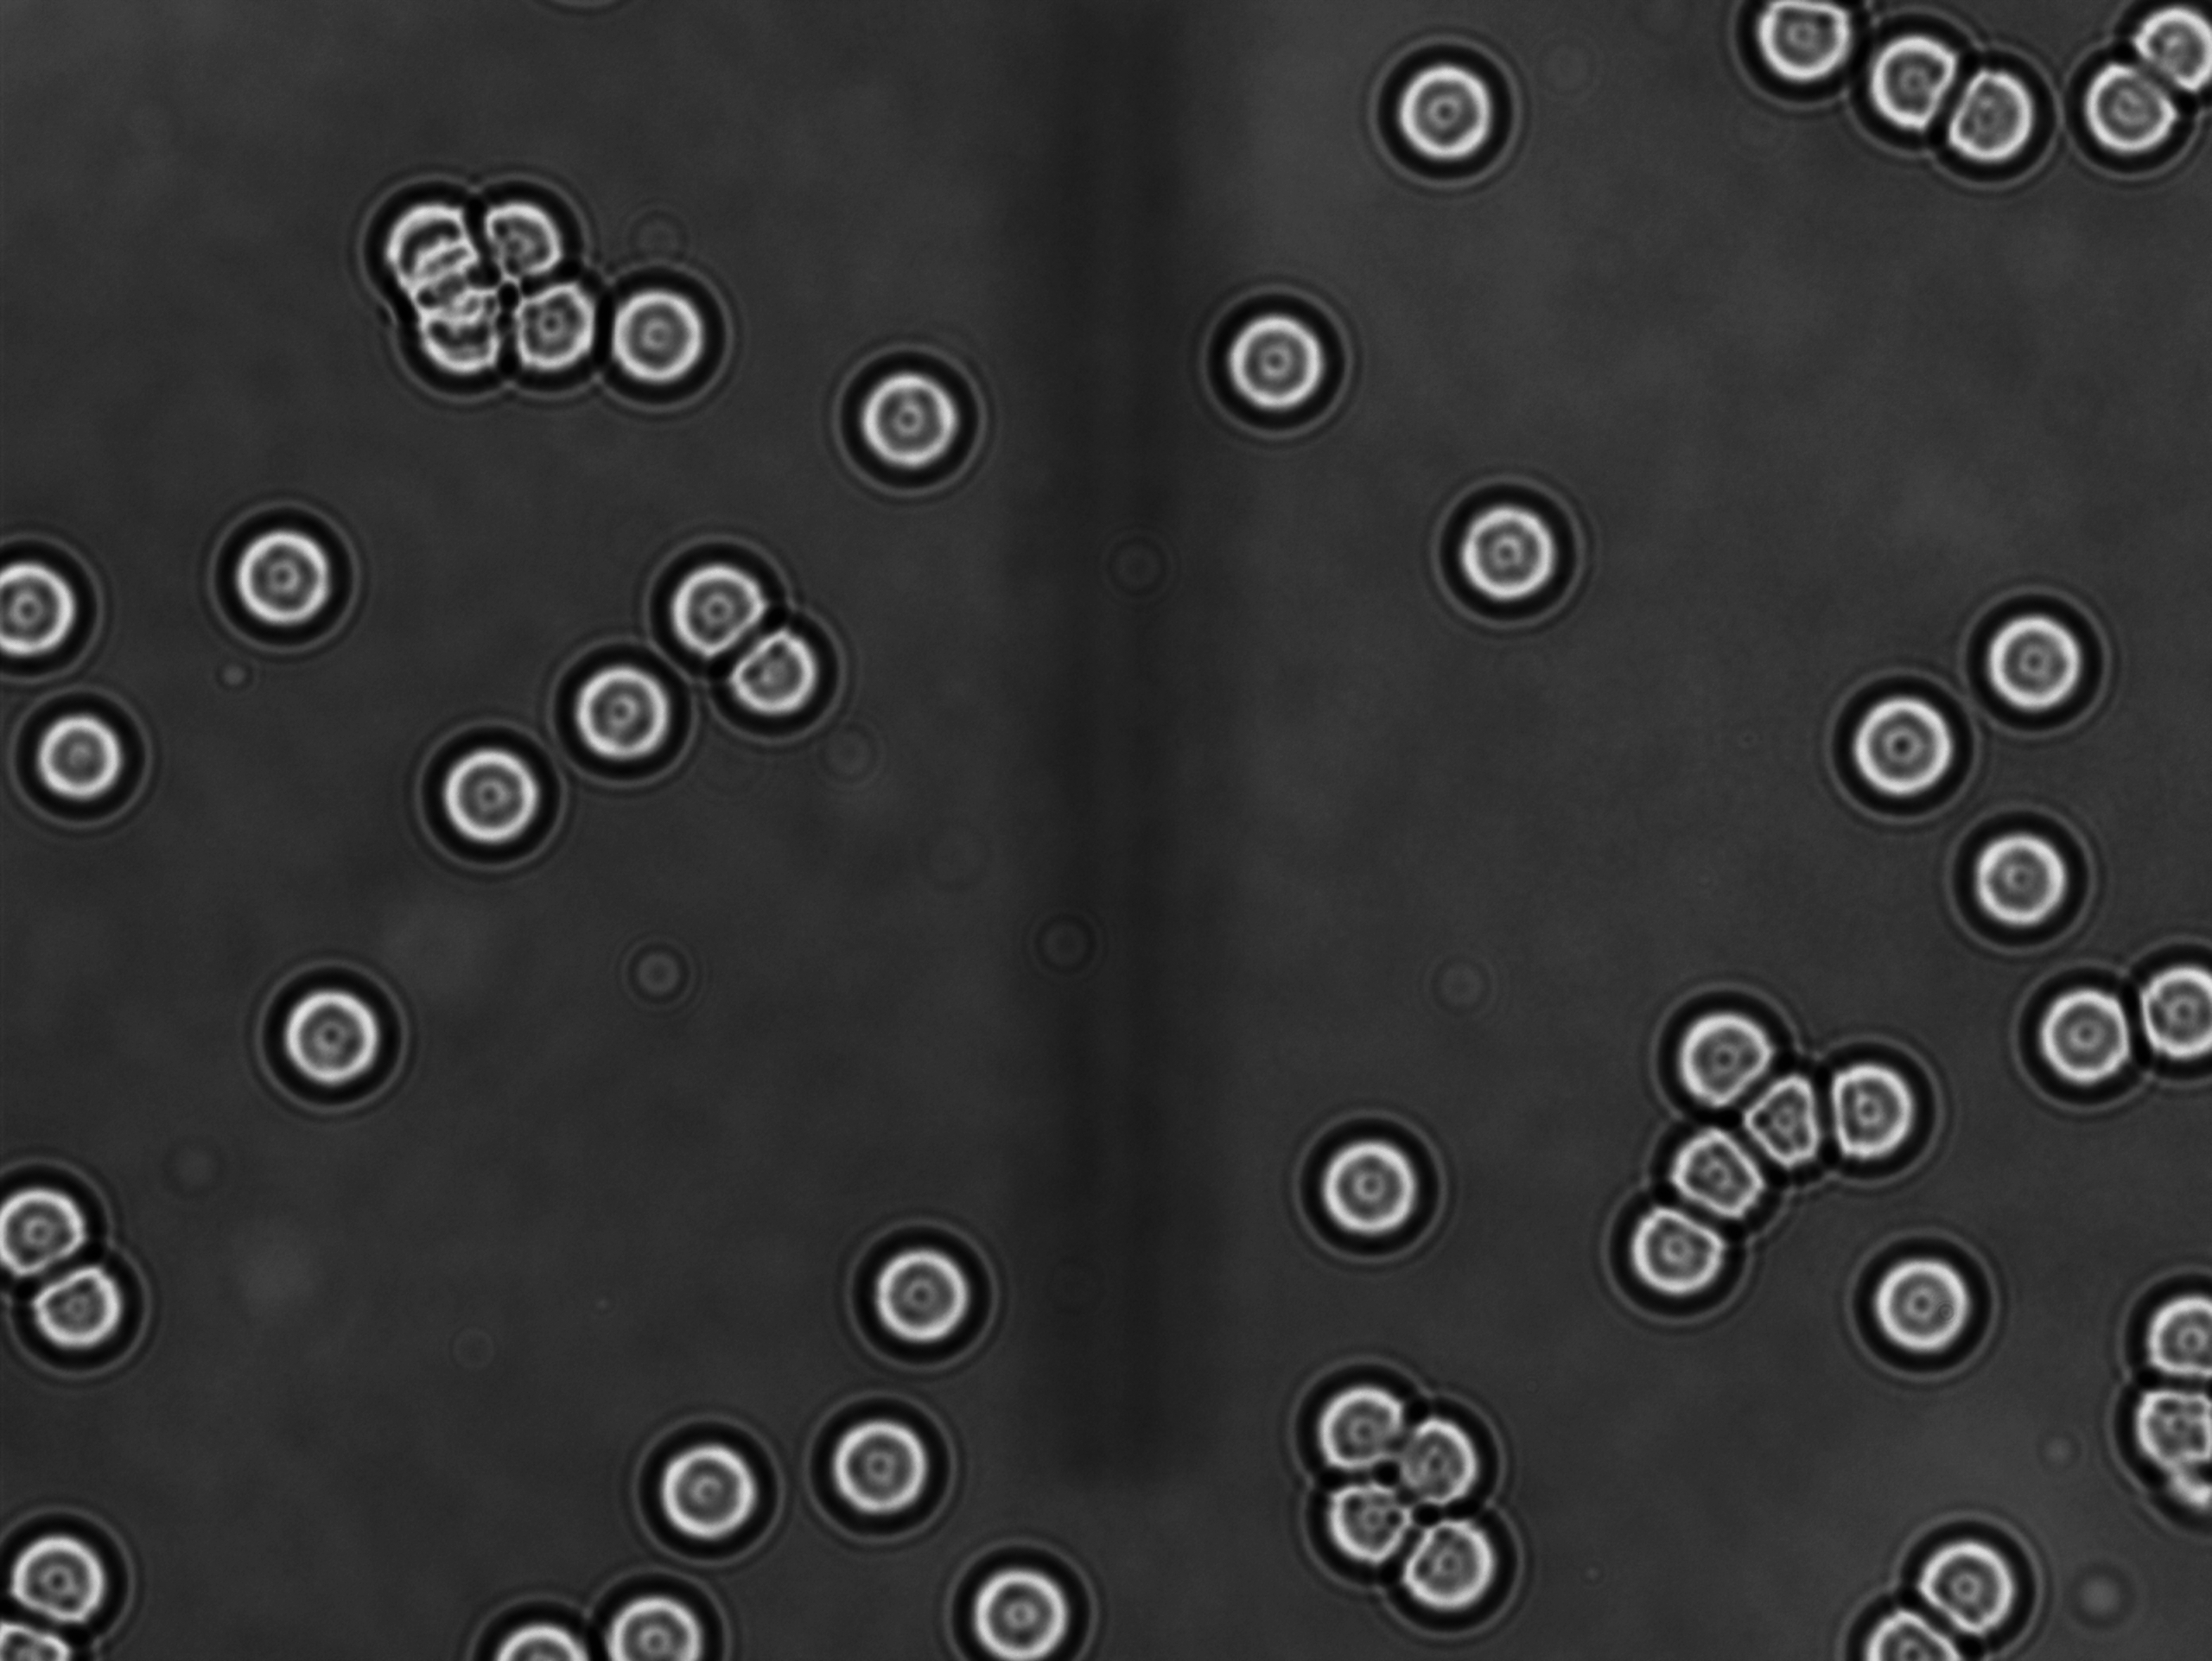depth:20: (1415, 455, 1612, 642), (1980, 942, 2167, 1136), (1350, 19, 1540, 208), (623, 516, 816, 698), (190, 487, 384, 668), (1589, 1160, 1774, 1345), (2034, 16, 2212, 208), (1879, 1494, 2081, 1661), (1277, 1094, 1462, 1277), (1895, 38, 2078, 223), (248, 951, 429, 1138), (830, 1204, 1019, 1384), (1835, 1225, 2022, 1405), (1950, 583, 2140, 759), (820, 335, 1003, 516), (1806, 658, 1992, 836), (1191, 276, 1376, 454), (1635, 963, 1818, 1141), (616, 1403, 795, 1581), (461, 246, 635, 429), (1943, 796, 2123, 972), (799, 1377, 966, 1562), (574, 249, 750, 424), (1628, 1092, 1807, 1263), (539, 625, 713, 799), (1793, 1033, 1964, 1211), (693, 598, 869, 769), (0, 1230, 176, 1401), (1263, 1340, 1446, 1504), (403, 712, 572, 886), (1373, 1483, 1546, 1647), (1282, 1450, 1453, 1614), (1713, 1052, 1877, 1218), (1373, 1384, 1535, 1541), (562, 1534, 754, 1661), (935, 1530, 1118, 1661), (2097, 904, 2212, 1096), (1809, 1551, 1985, 1661)
